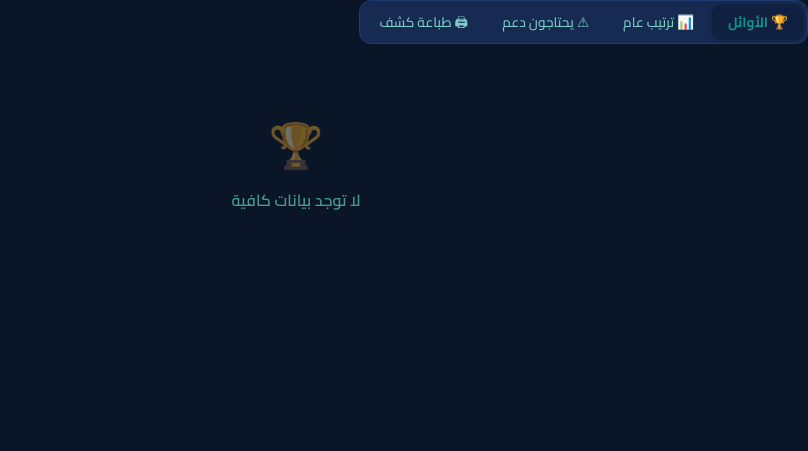
it: ExamReports (print tab, "بالطالب" mode) — group-scoped student selector is now searchable › selecting a result sets the same studentId state the old <select> produced, enabling report generation
Click the button "🖨 طباعة كشف" at (424, 22), box x1=364 y1=4 x2=484 y2=40
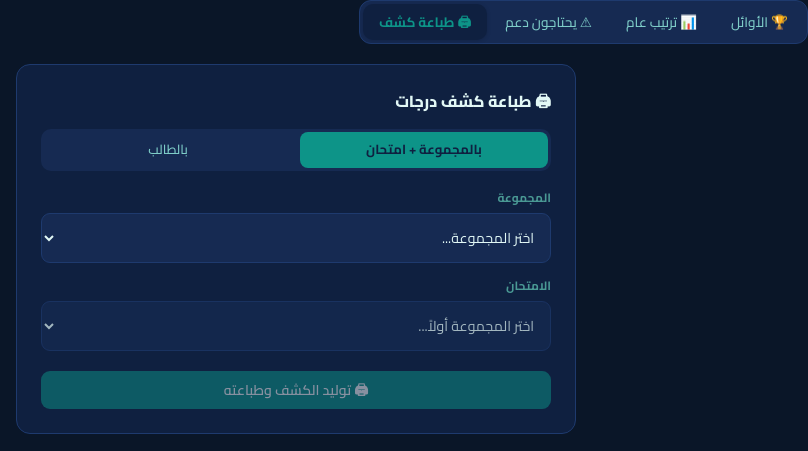
Click the button "بالطالب" at (168, 150), box x1=44 y1=132 x2=292 y2=168
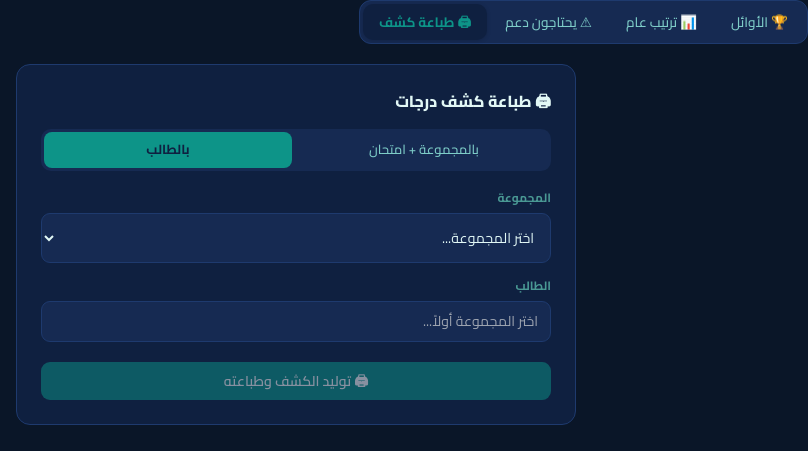
Select "مجموعة أ — الأول الثانوي" in the 1st dropdown at (296, 238), box x1=41 y1=213 x2=551 y2=263
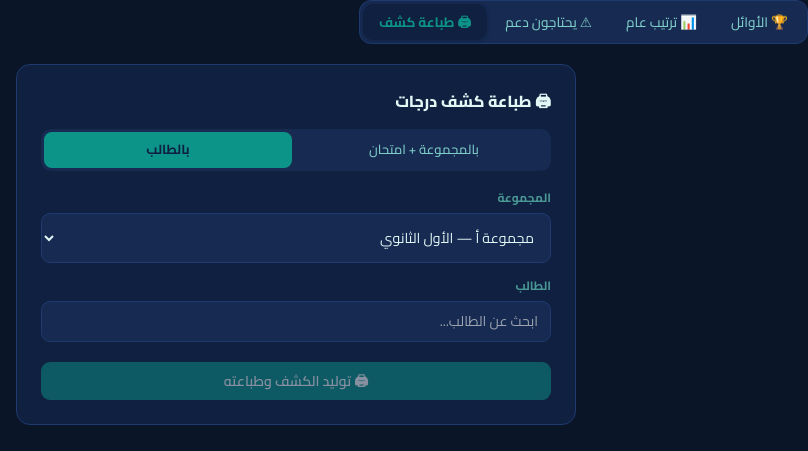
Type "أشرف محمد" into the dropdown with placeholder "ابحث عن الطالب..." at (296, 322), box x1=41 y1=301 x2=551 y2=342
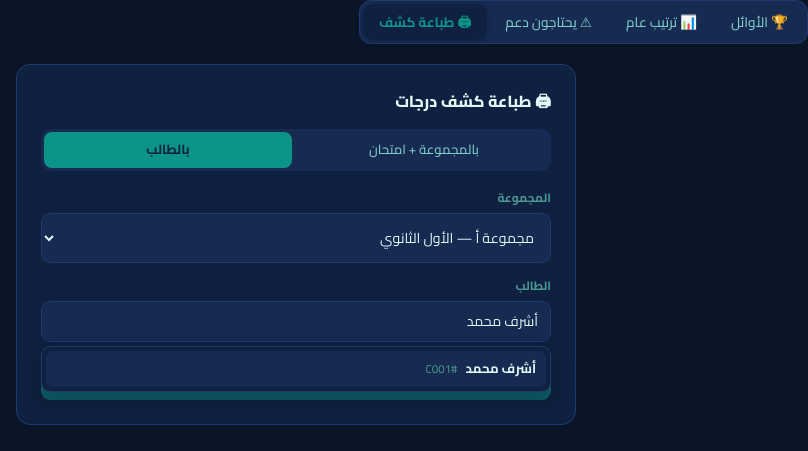
Click the option "أشرف محمد #C001" at (501, 368), box x1=46 y1=351 x2=546 y2=387
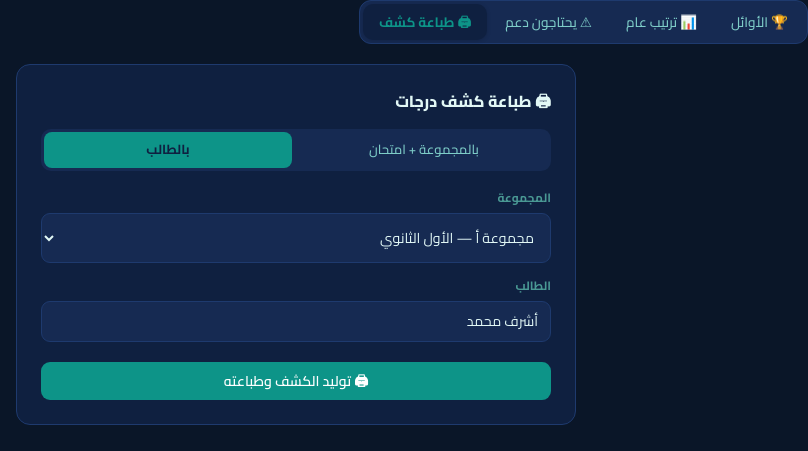
Expected: the button "🖨 توليد الكشف وطباعته" is enabled, x1=41 y1=362 x2=551 y2=400
